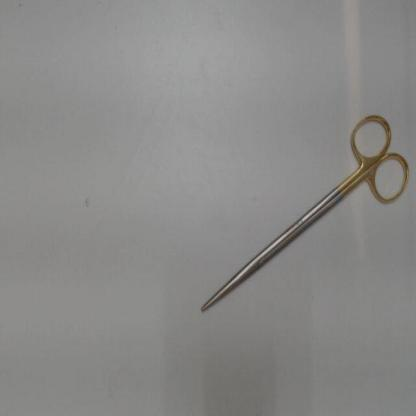7 Metzenbaum Scissors: (201, 112, 411, 314)
